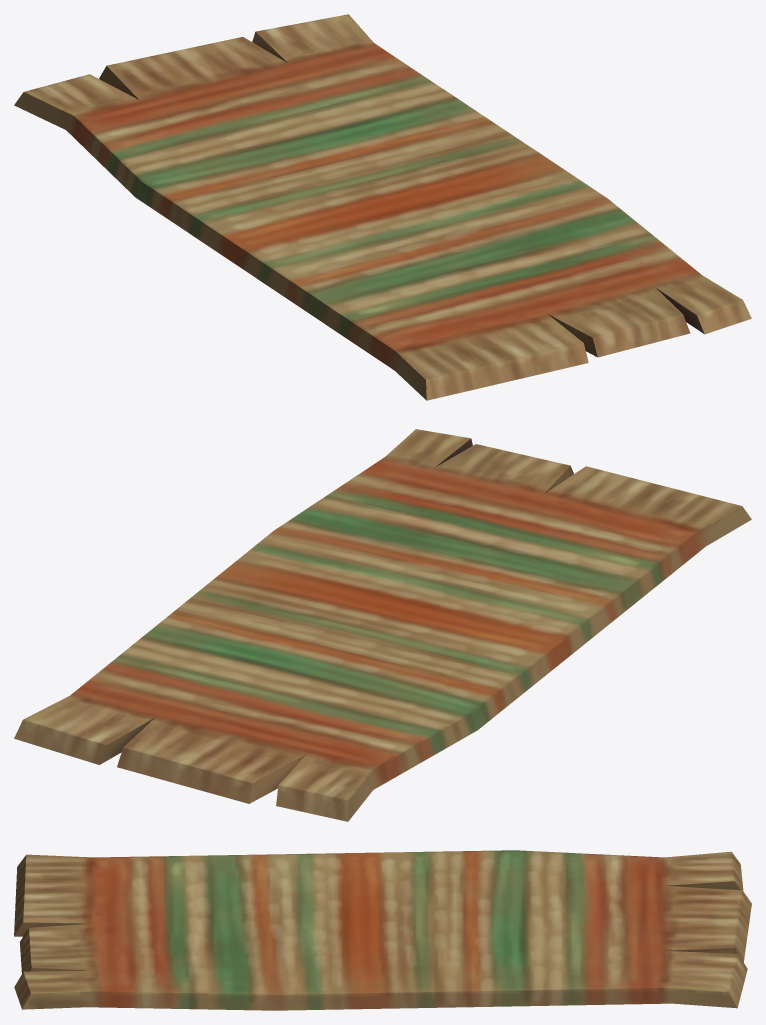
The model's file is furnitureSet_carpet.FBX.
3 renders of one model, top to bottom at view 1: azimuth 30°, elevation 25°; view 2: azimuth 150°, elevation 25°; view 3: azimuth 270°, elevation 25°, orthographic. The views are drawn at different scales.
Parts seen in each view (by area): view 1: furnitureSet_carpet; view 2: furnitureSet_carpet; view 3: furnitureSet_carpet.
Boxes of the visible parts, x1,y1,x2,y2 form: furnitureSet_carpet: [14, 14, 751, 400]; furnitureSet_carpet: [14, 429, 751, 821]; furnitureSet_carpet: [14, 850, 751, 1010].
Size of the model in its own units: 52.57 by 2.36 by 111.
Materials: 1 (1 with a texture image).
